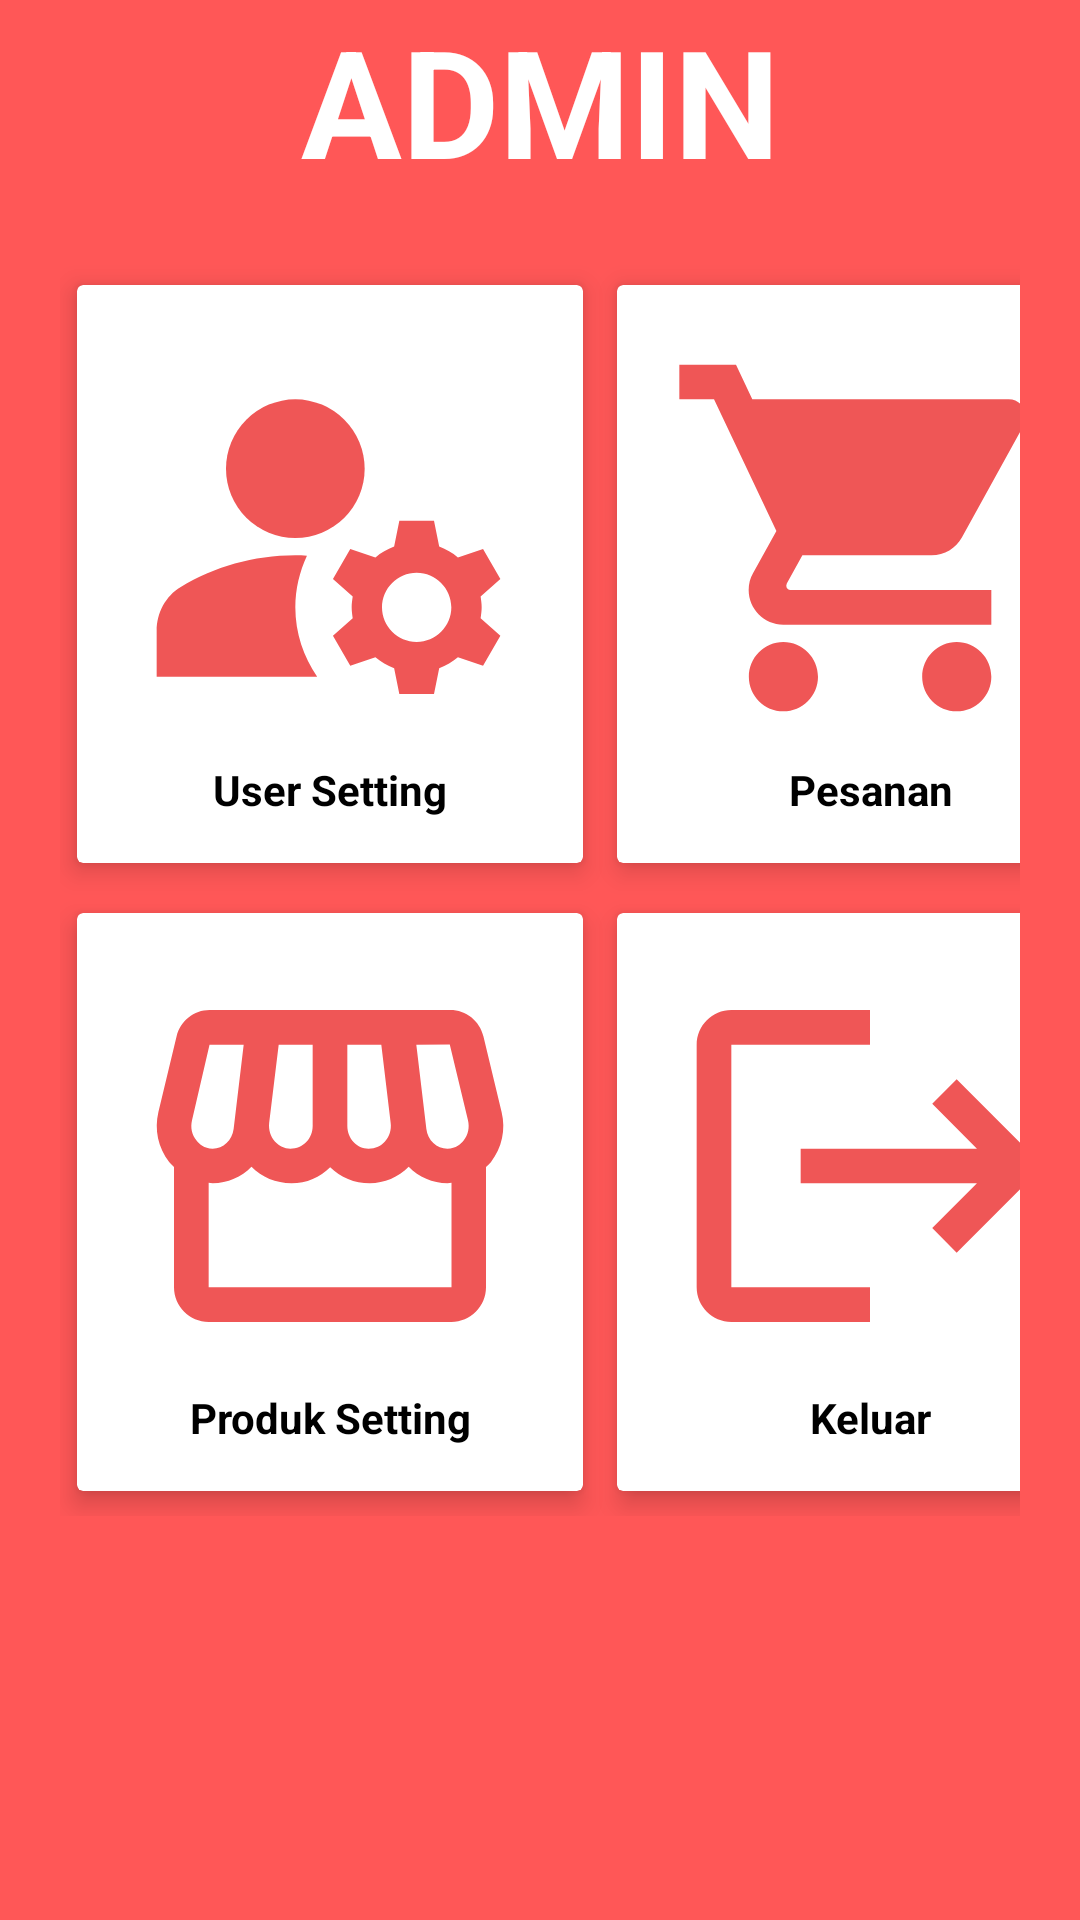

Screen size 1080*1920. Icon name, then its box in pixels as (x1, y1, x2, y2):
manage accounts: (156, 399, 500, 694)
storefront admin: (156, 1010, 504, 1322)
